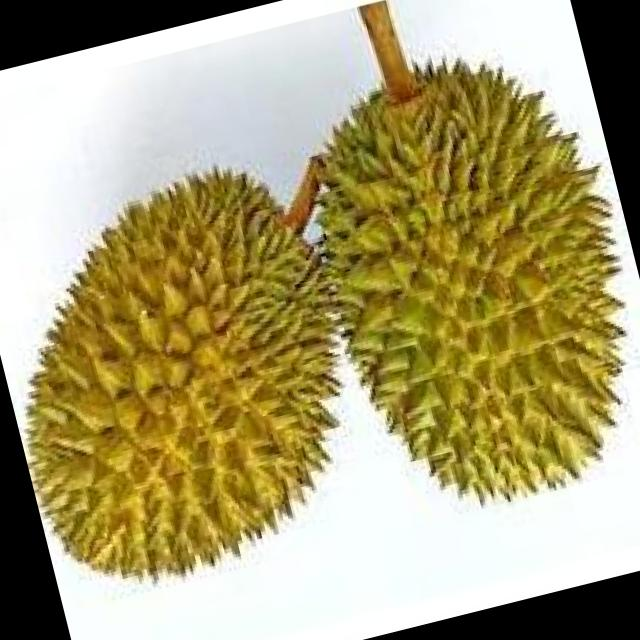fruit: (0, 140, 429, 639), (229, 7, 640, 385), (290, 210, 640, 573)
